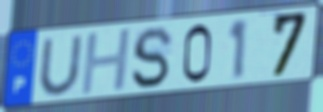0: (181, 22, 213, 85)
1: (226, 17, 249, 82)
7: (269, 11, 309, 81)
H: (79, 25, 134, 98)
S: (130, 25, 176, 91)
U: (37, 33, 85, 98)
